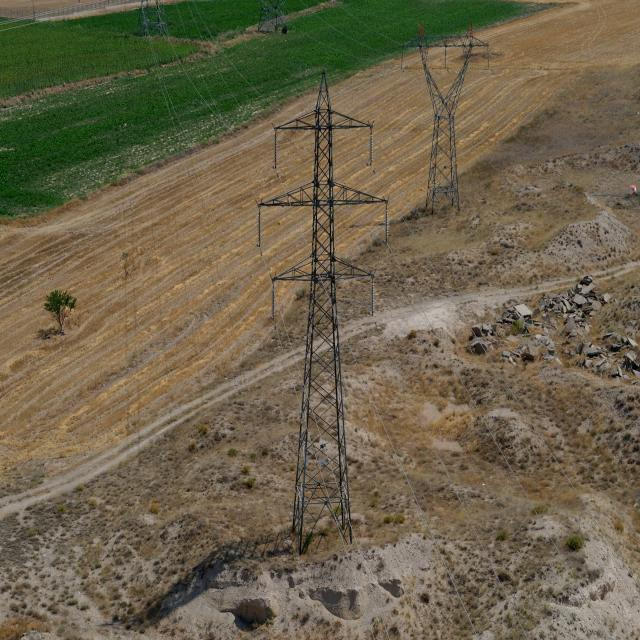voltage_line: (266, 81, 361, 539), (414, 35, 472, 212)
